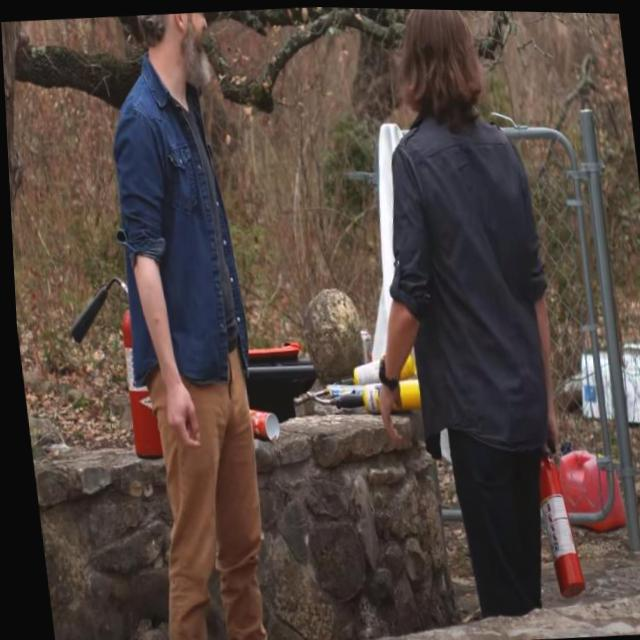FireExtinguisher: (51, 243, 174, 486), (519, 424, 581, 608)
